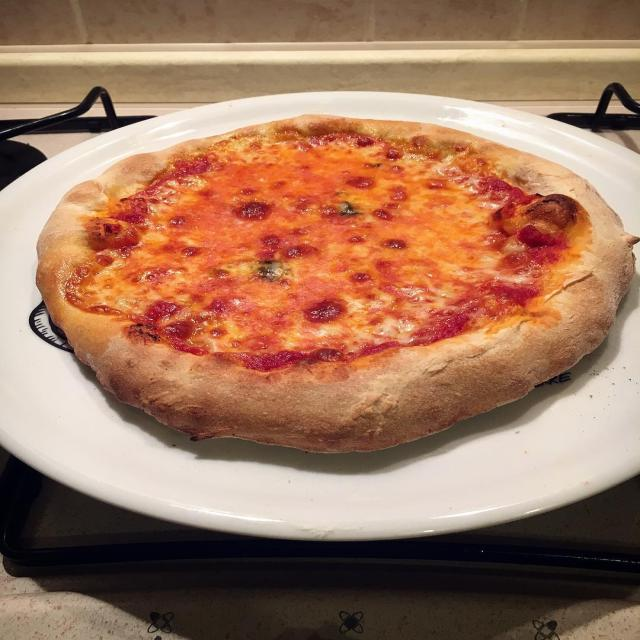pizza: (31, 110, 640, 459)
